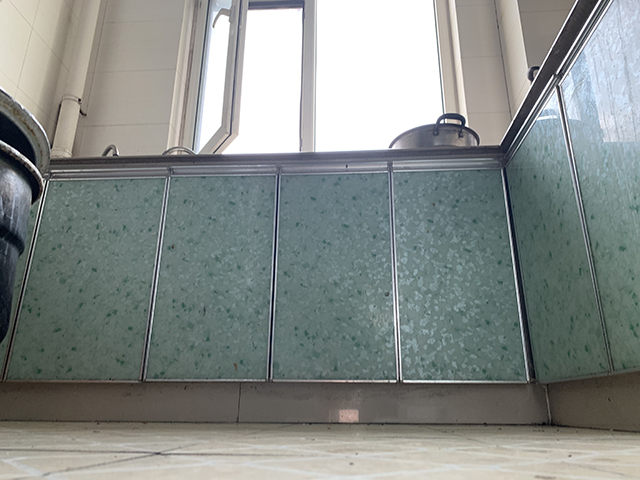cabinet: (46, 155, 524, 433), (506, 67, 640, 432)
